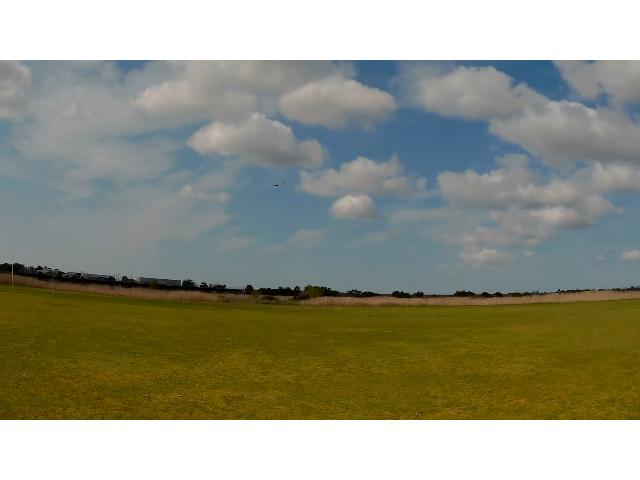Anti-Drone: (272, 184, 284, 187)
